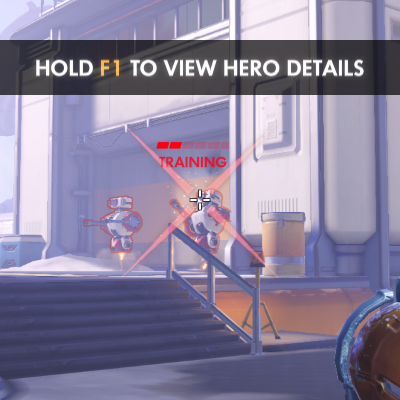hpbar: (156, 141, 230, 149)
